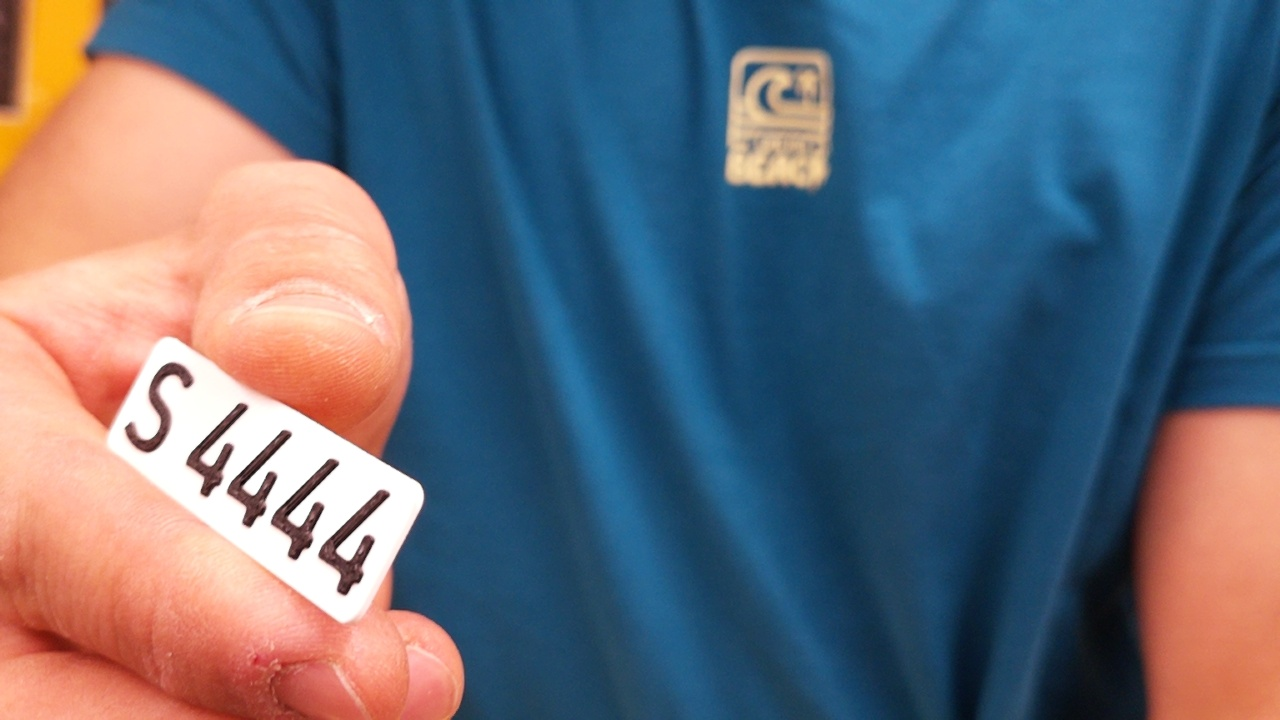license_plate: (101, 330, 430, 628)
